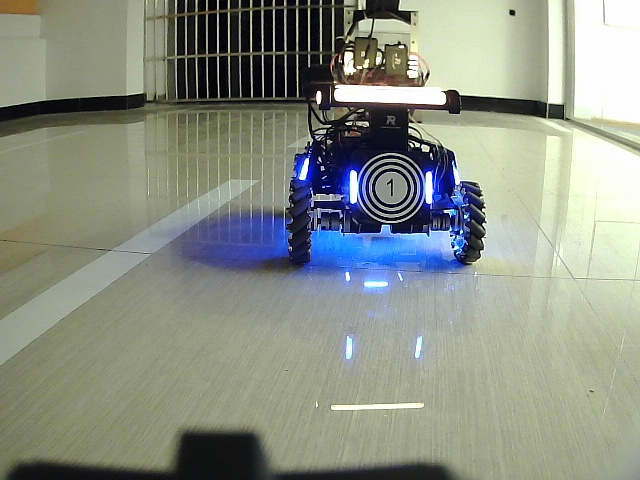lamp: (348, 168, 361, 207), (421, 169, 434, 206)
pair: (349, 169, 434, 204)
